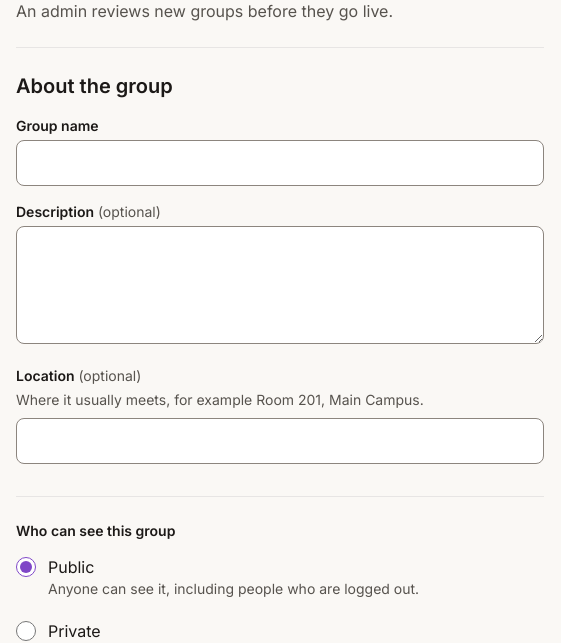
Test case: keeps the form and its edits when creating fails
In the field labelled "Group name": point(280, 163) [16,140,544,186], type "Sam's study"
(page scrolled)
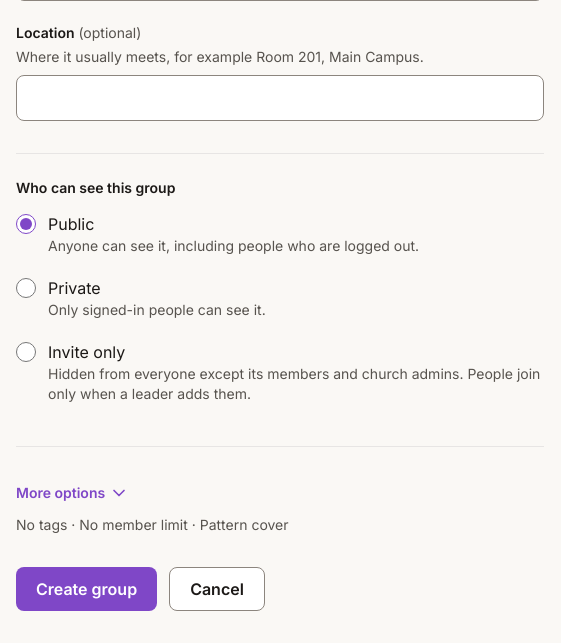
Click the button "Create group": point(87, 589) [16,567,157,611]
(page scrolled)
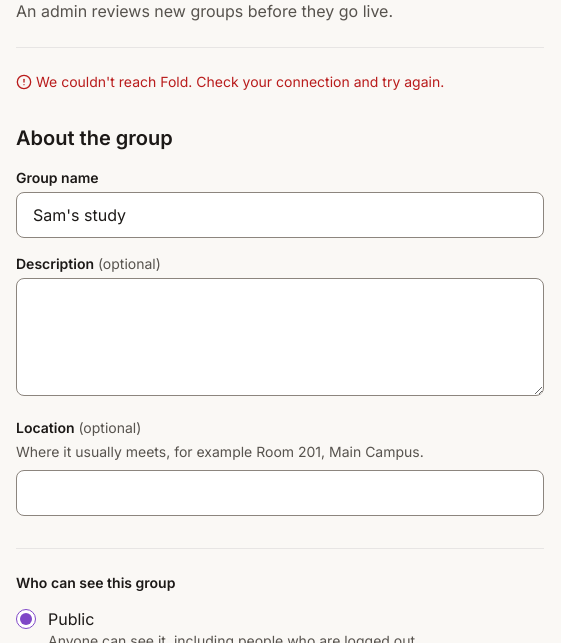
Expected: the message "We couldn't reach Fold. Check your connection and try again." is shown, [16,73,444,90]
